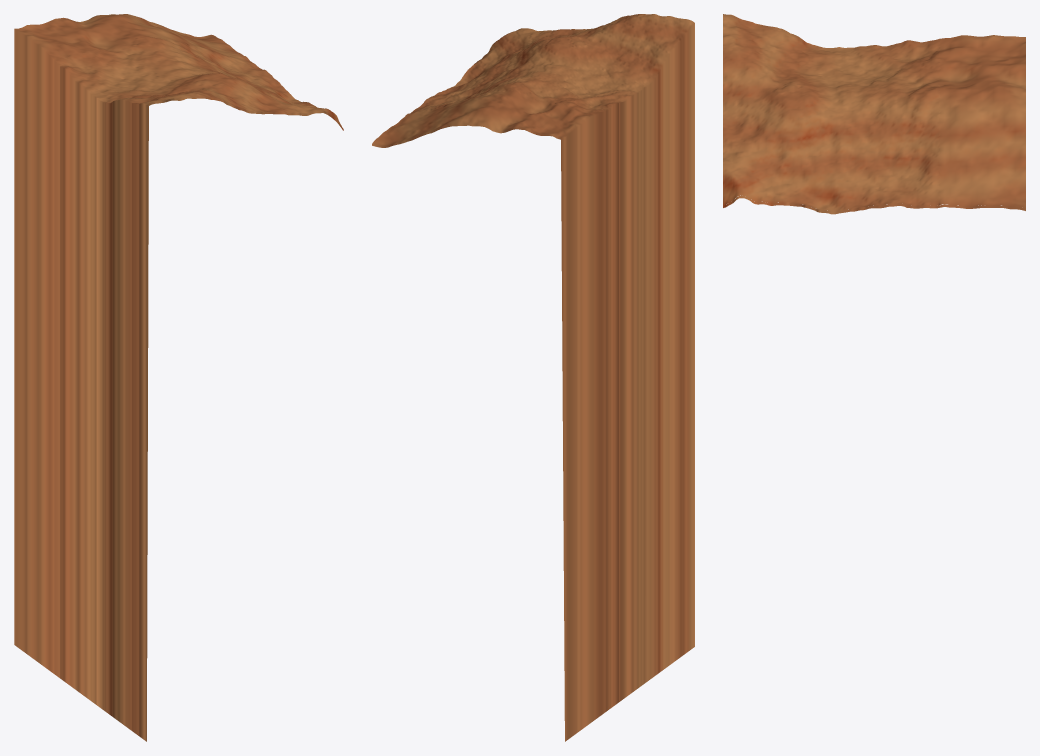
Rendered from terrain-027.glb.
3 renders of one model, left to right at view 1: azimuth 30°, elevation 25°; view 2: azimuth 150°, elevation 25°; view 3: azimuth 270°, elevation 25°, orthographic. The views are drawn at different scales.
Parts seen in each view (by area): view 1: terrain-027; view 2: terrain-027; view 3: terrain-027.
Part boxes in pixels (box(x1,y1,x2,y2)): terrain-027: box(14, 14, 343, 741); terrain-027: box(372, 14, 694, 741); terrain-027: box(723, 14, 1025, 214).
Size of the model in its own units: 384 by 1191 by 448.
